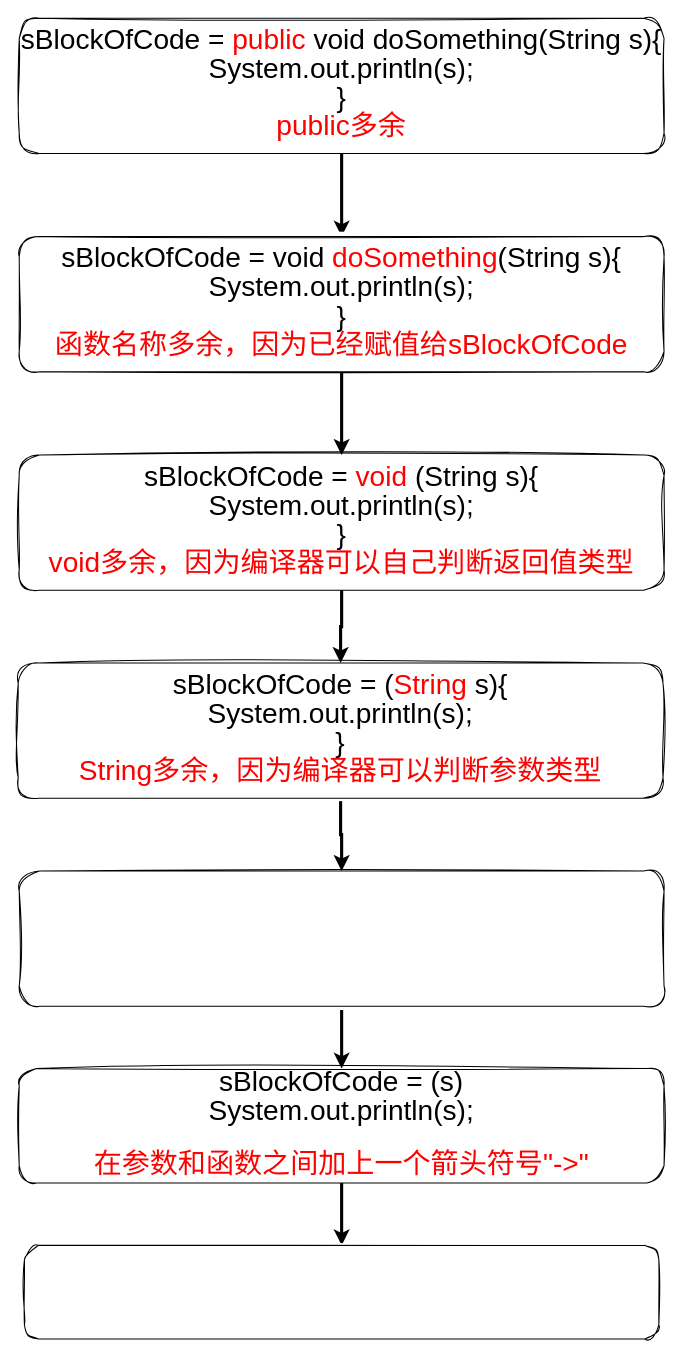
This 682x1357 diagram has some shape labels left out. Here are the shapes that lost their labels. From the top down, the centre of each, then its label:
(341,938): sBlockOfCode = (s) { System.out.println(s); } 只有一行，所以可以不加大括号
(341,1291): sBlockOfCode = (s) -> System.out.println(s);
